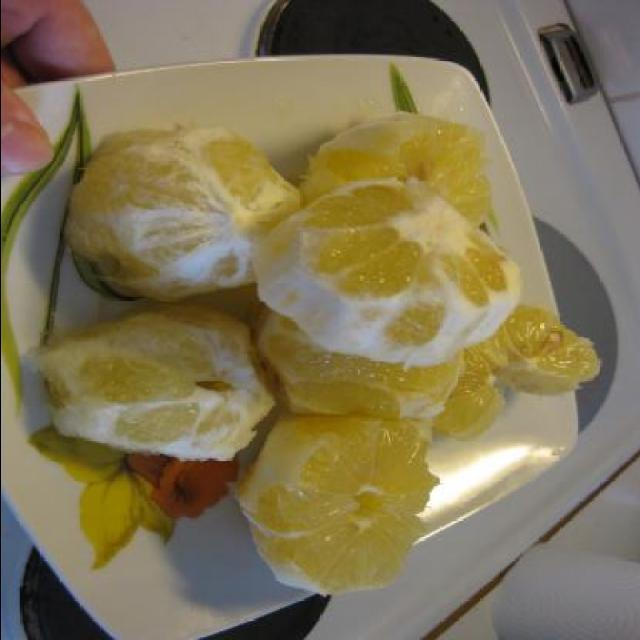Lemon: (38, 112, 602, 600)
